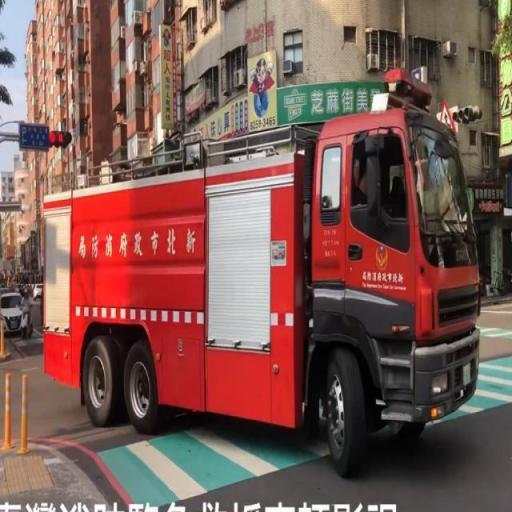fire truck: (43, 71, 480, 477)
